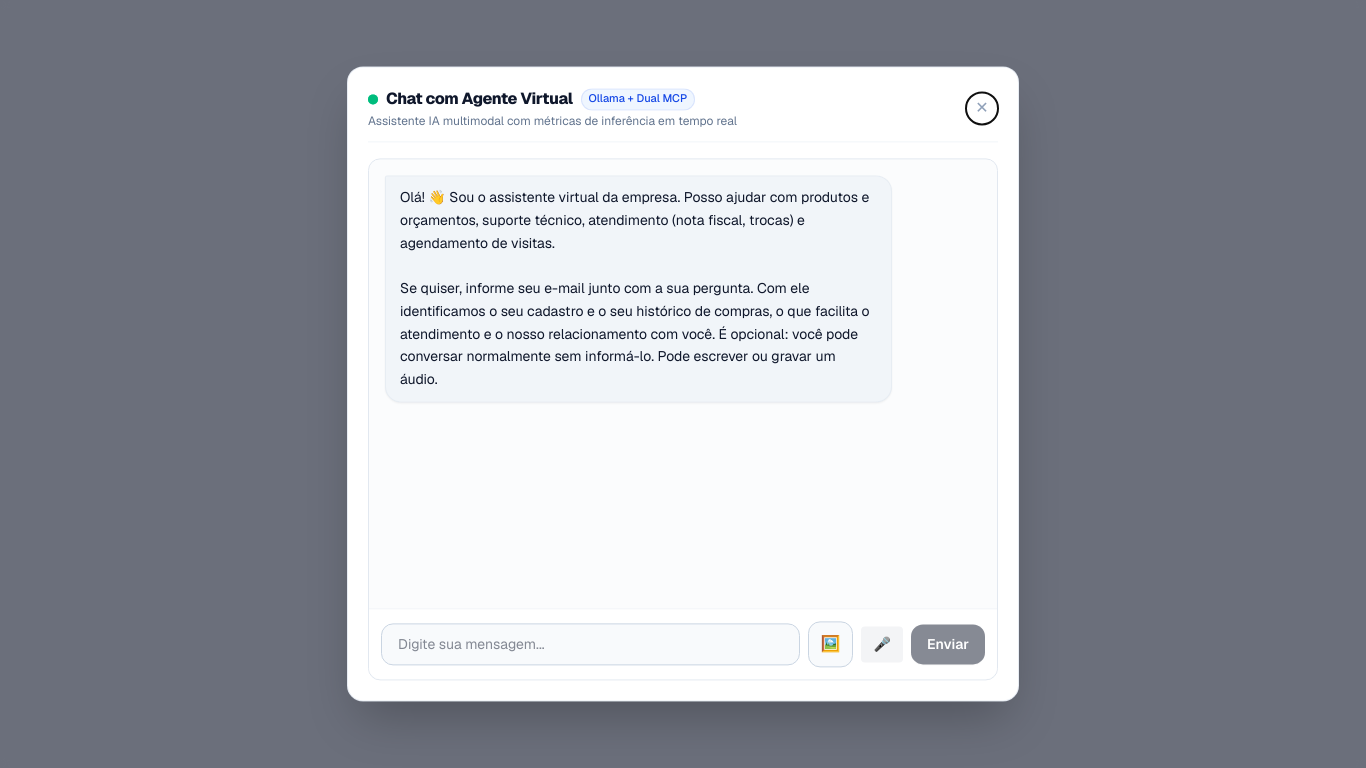
Test: ChatModal › propaga o provedor do roteador para o painel de métricas
Type "oi" into the field labelled "mensagem".
click(590, 645); type("oi")  # box top-left (381, 624), bottom-right (800, 666)
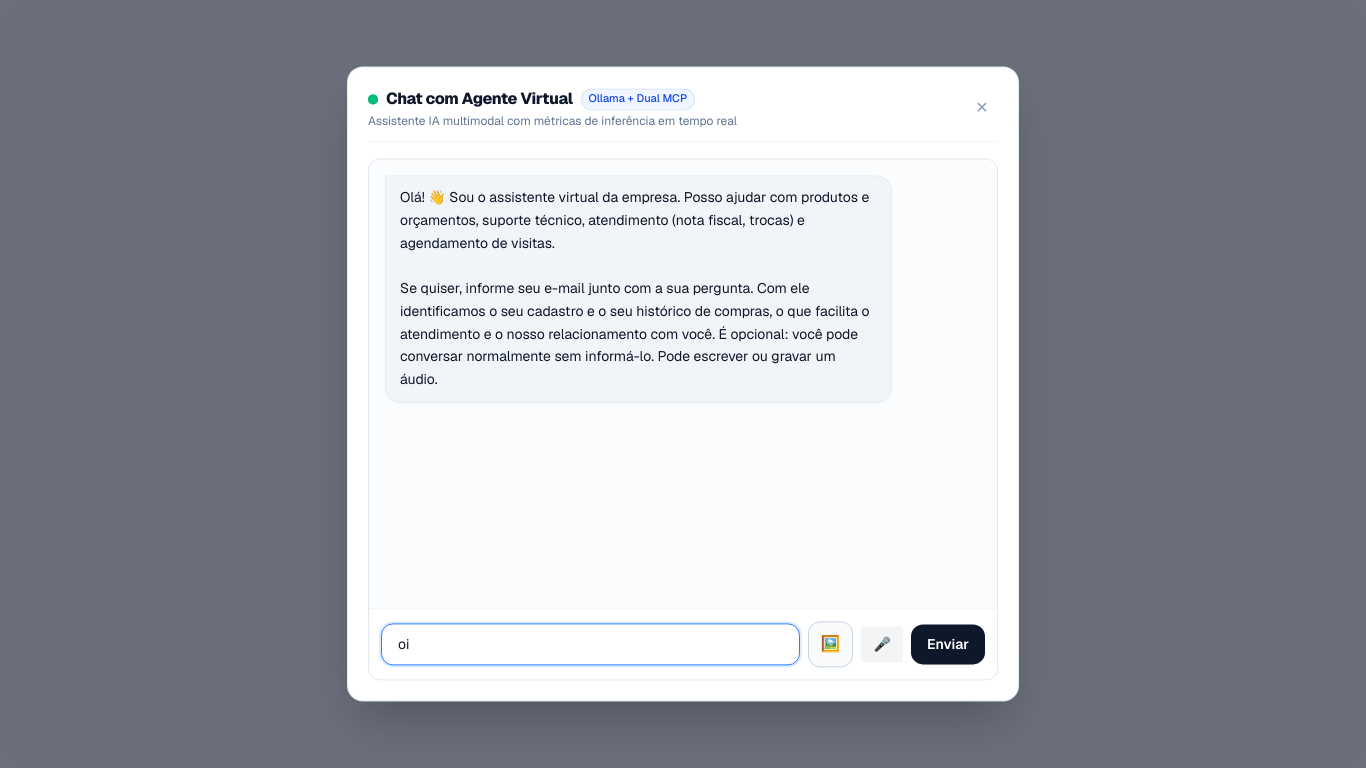
Click the button "Enviar".
click(948, 645)  # box top-left (911, 625), bottom-right (985, 665)
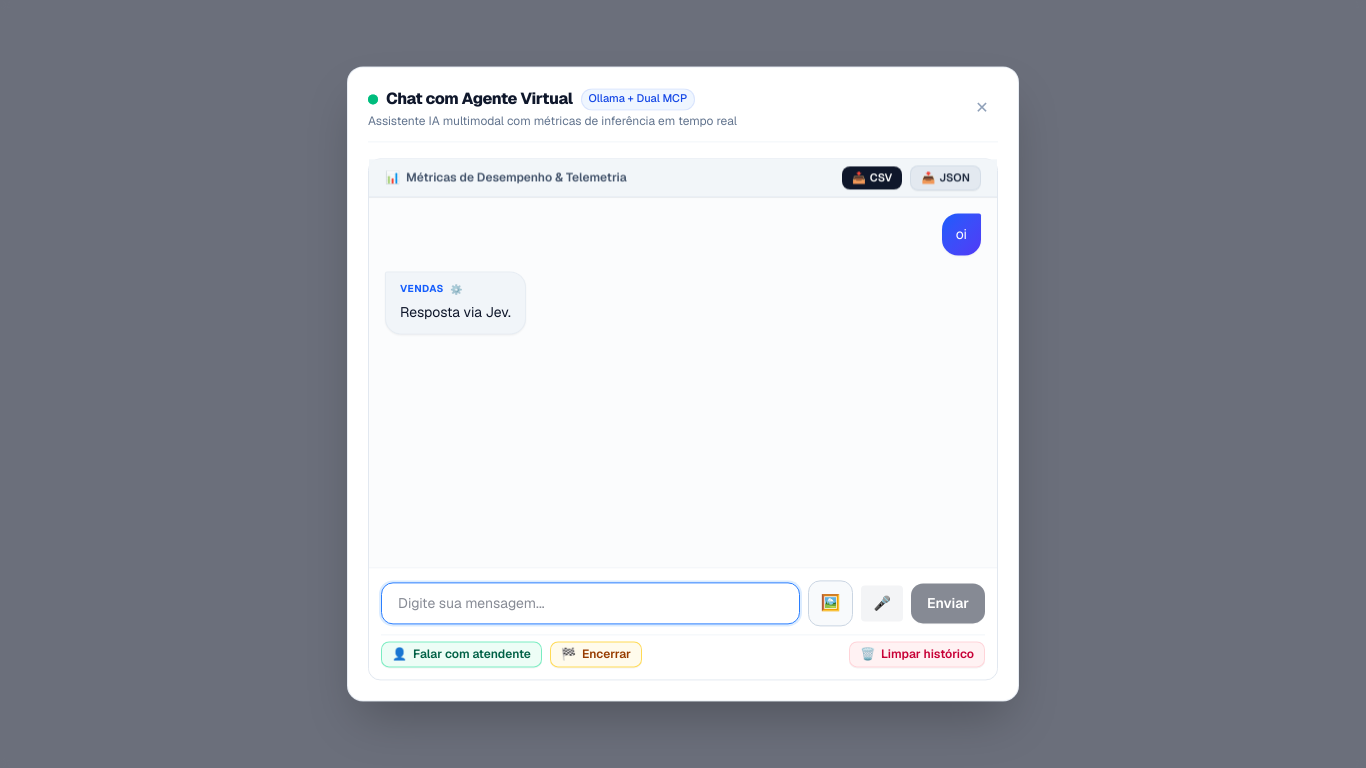
Check: the text "Resposta via Jev." is shown, box top-left (400, 301), bottom-right (511, 324)
Click the button named "Mostrar métricas da resposta".
click(456, 290)  # box top-left (450, 285), bottom-right (462, 295)
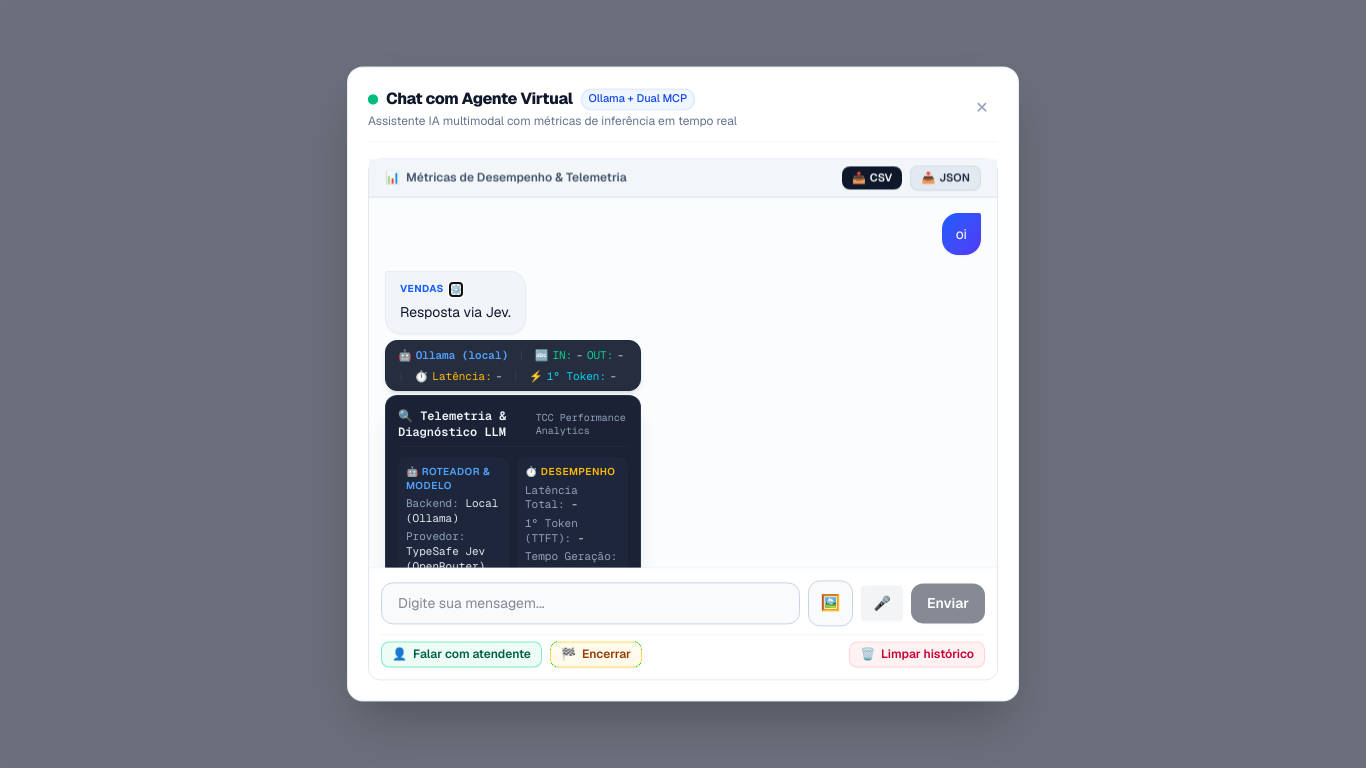
Check: the text "TypeSafe Jev (OpenRouter)" is shown, box top-left (406, 544), bottom-right (485, 568)
